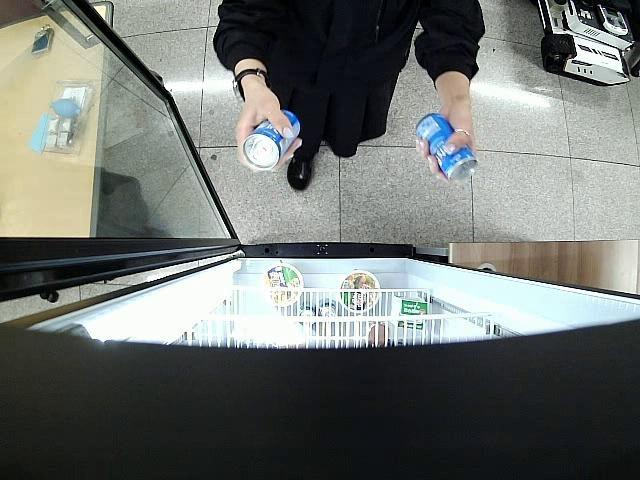15_letsbe: (415, 112, 479, 184), (243, 107, 299, 171)
